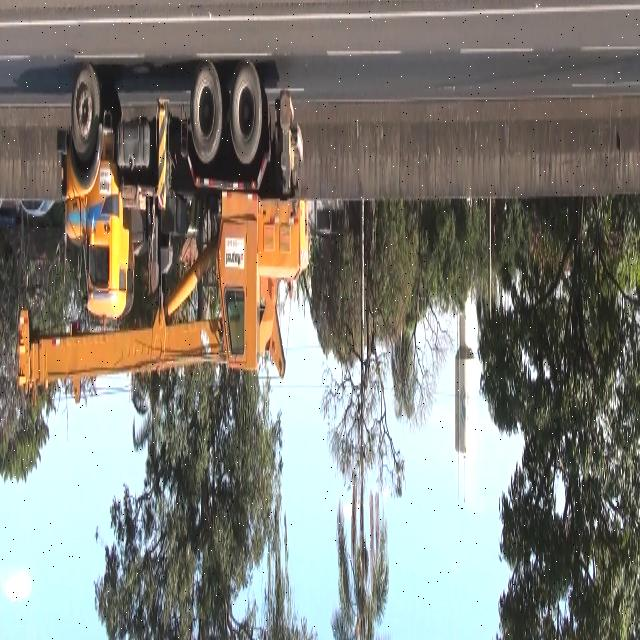-axle: (230, 51, 261, 165), (190, 56, 223, 162), (70, 61, 100, 166)
